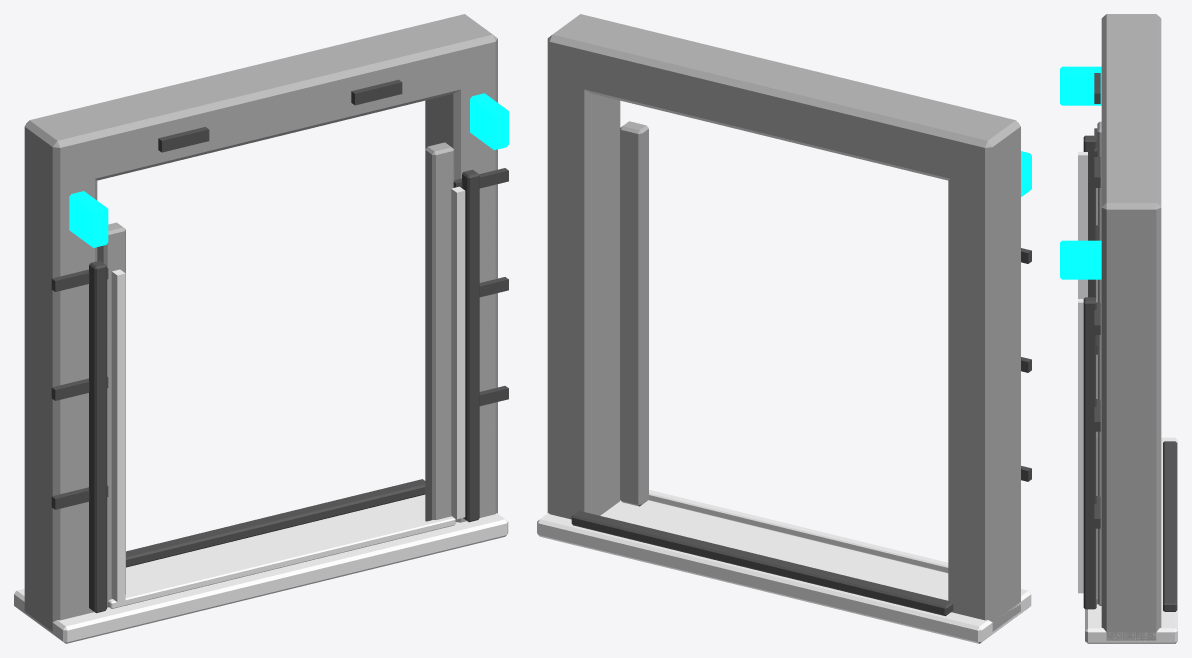
The model's file is doorway_frame_open_1x1.glb.
The picture shows the model from 3 angles, left to right: view 1: azimuth 30°, elevation 25°; view 2: azimuth 150°, elevation 25°; view 3: azimuth 270°, elevation 25°; orthographic projection. The views are drawn at different scales.
Visible parts, largest first — view 1: FocusedNine_doorway_frame_open_1x1_jamb_left, FocusedNine_doorway_frame_open_1x1_lintel, FocusedNine_doorway_frame_open_1x1_threshold, FocusedNine_doorway_frame_open_1x1_jamb_right, FocusedNine_doorway_frame_open_1x1_frame_inner_right, FocusedNine_doorway_frame_open_1x1_mechanical_rail_left, FocusedNine_doorway_frame_open_1x1_mechanical_rail_right, FocusedNine_doorway_frame_open_1x1_threshold_rail, FocusedNine_doorway_frame_open_1x1_seal_left, FocusedNine_doorway_frame_open_1x1_seal_right, FocusedNine_doorway_frame_open_1x1_threshold_seal, FocusedNine_doorway_frame_open_1x1_frame_inner_left (+4 smaller); view 2: FocusedNine_doorway_frame_open_1x1_jamb_left, FocusedNine_doorway_frame_open_1x1_jamb_right, FocusedNine_doorway_frame_open_1x1_lintel, FocusedNine_doorway_frame_open_1x1_threshold, FocusedNine_doorway_frame_open_1x1_frame_inner_right, FocusedNine_doorway_frame_open_1x1_threshold_rail, FocusedNine_doorway_frame_open_1x1_threshold_seal; view 3: FocusedNine_doorway_frame_open_1x1_jamb_right, FocusedNine_doorway_frame_open_1x1_lintel, FocusedNine_doorway_frame_open_1x1_mechanical_rail_right, FocusedNine_doorway_frame_open_1x1_threshold_rail, FocusedNine_doorway_frame_open_1x1_threshold, FocusedNine_doorway_frame_open_1x1_seal_right, FocusedNine_doorway_frame_open_1x1_indicator_bay_right, FocusedNine_doorway_frame_open_1x1_indicator_bay_left, FocusedNine_doorway_frame_open_1x1_frame_inner_right, FocusedNine_doorway_frame_open_1x1_mechanical_rail_left, FocusedNine_doorway_frame_open_1x1_seal_left, FocusedNine_doorway_frame_open_1x1_jamb_left (+7 smaller).
Boxes of the visible parts, x1,y1,x2,y2 form: FocusedNine_doorway_frame_open_1x1_jamb_left: (24, 112, 97, 631); FocusedNine_doorway_frame_open_1x1_lintel: (24, 22, 497, 186); FocusedNine_doorway_frame_open_1x1_threshold: (14, 494, 508, 643); FocusedNine_doorway_frame_open_1x1_jamb_right: (425, 14, 497, 522); FocusedNine_doorway_frame_open_1x1_frame_inner_right: (425, 142, 454, 521); FocusedNine_doorway_frame_open_1x1_mechanical_rail_left: (89, 260, 106, 613); FocusedNine_doorway_frame_open_1x1_mechanical_rail_right: (462, 169, 479, 522); FocusedNine_doorway_frame_open_1x1_threshold_rail: (126, 479, 425, 567); FocusedNine_doorway_frame_open_1x1_seal_left: (111, 269, 125, 601); FocusedNine_doorway_frame_open_1x1_seal_right: (451, 186, 465, 519); FocusedNine_doorway_frame_open_1x1_threshold_seal: (108, 516, 455, 608); FocusedNine_doorway_frame_open_1x1_frame_inner_left: (97, 222, 125, 607); FocusedNine_doorway_frame_open_1x1_jamb_left: (948, 112, 1020, 631); FocusedNine_doorway_frame_open_1x1_jamb_right: (547, 14, 620, 519); FocusedNine_doorway_frame_open_1x1_lintel: (549, 22, 1019, 186); FocusedNine_doorway_frame_open_1x1_threshold: (537, 500, 1031, 643); FocusedNine_doorway_frame_open_1x1_frame_inner_right: (620, 121, 648, 506); FocusedNine_doorway_frame_open_1x1_threshold_rail: (571, 511, 953, 616); FocusedNine_doorway_frame_open_1x1_threshold_seal: (648, 490, 948, 573); FocusedNine_doorway_frame_open_1x1_jamb_right: (1101, 188, 1161, 640); FocusedNine_doorway_frame_open_1x1_lintel: (1101, 29, 1161, 244); FocusedNine_doorway_frame_open_1x1_mechanical_rail_right: (1083, 297, 1096, 609); FocusedNine_doorway_frame_open_1x1_threshold_rail: (1163, 441, 1177, 611); FocusedNine_doorway_frame_open_1x1_threshold: (1085, 437, 1177, 643); FocusedNine_doorway_frame_open_1x1_seal_right: (1078, 299, 1083, 593); FocusedNine_doorway_frame_open_1x1_indicator_bay_right: (1060, 240, 1101, 279); FocusedNine_doorway_frame_open_1x1_indicator_bay_left: (1060, 66, 1101, 105); FocusedNine_doorway_frame_open_1x1_frame_inner_right: (1097, 279, 1101, 605); FocusedNine_doorway_frame_open_1x1_mechanical_rail_left: (1083, 135, 1096, 298); FocusedNine_doorway_frame_open_1x1_seal_left: (1078, 152, 1087, 298); FocusedNine_doorway_frame_open_1x1_jamb_left: (1101, 14, 1161, 32).
Size of the model in its own units: 3.26 by 3.4 by 0.825.
